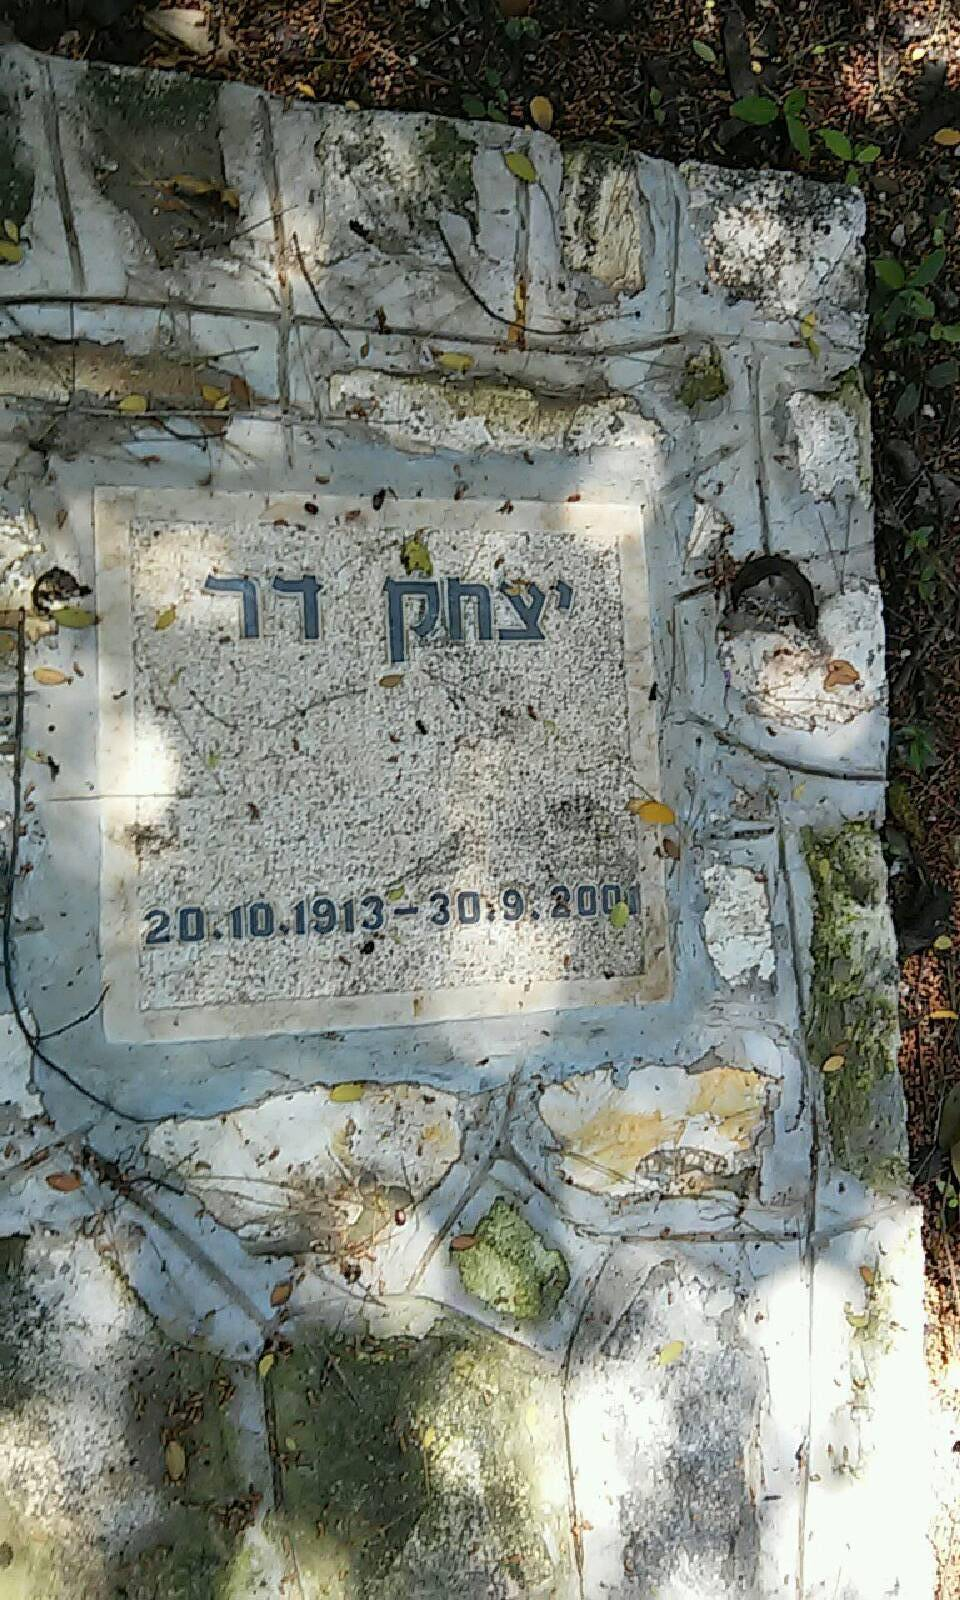flat: (73, 466, 681, 1045)
